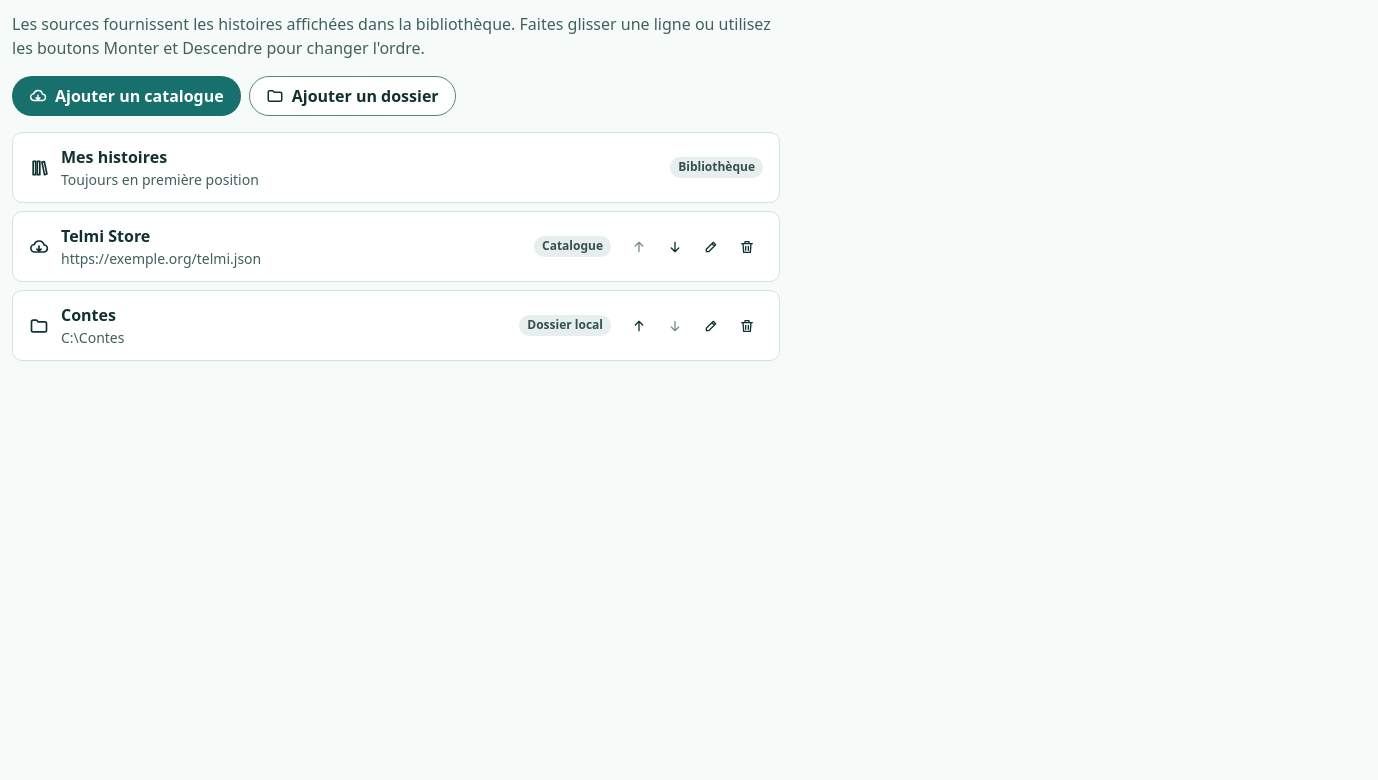
it: ajoute un dossier choisi dans le sélecteur natif
Expected: the text "Telmi Store" is shown, x1=61 y1=225 x2=150 y2=247
Click the button "Ajouter un dossier".
click(352, 96)  # box x1=249 y1=76 x2=456 y2=116
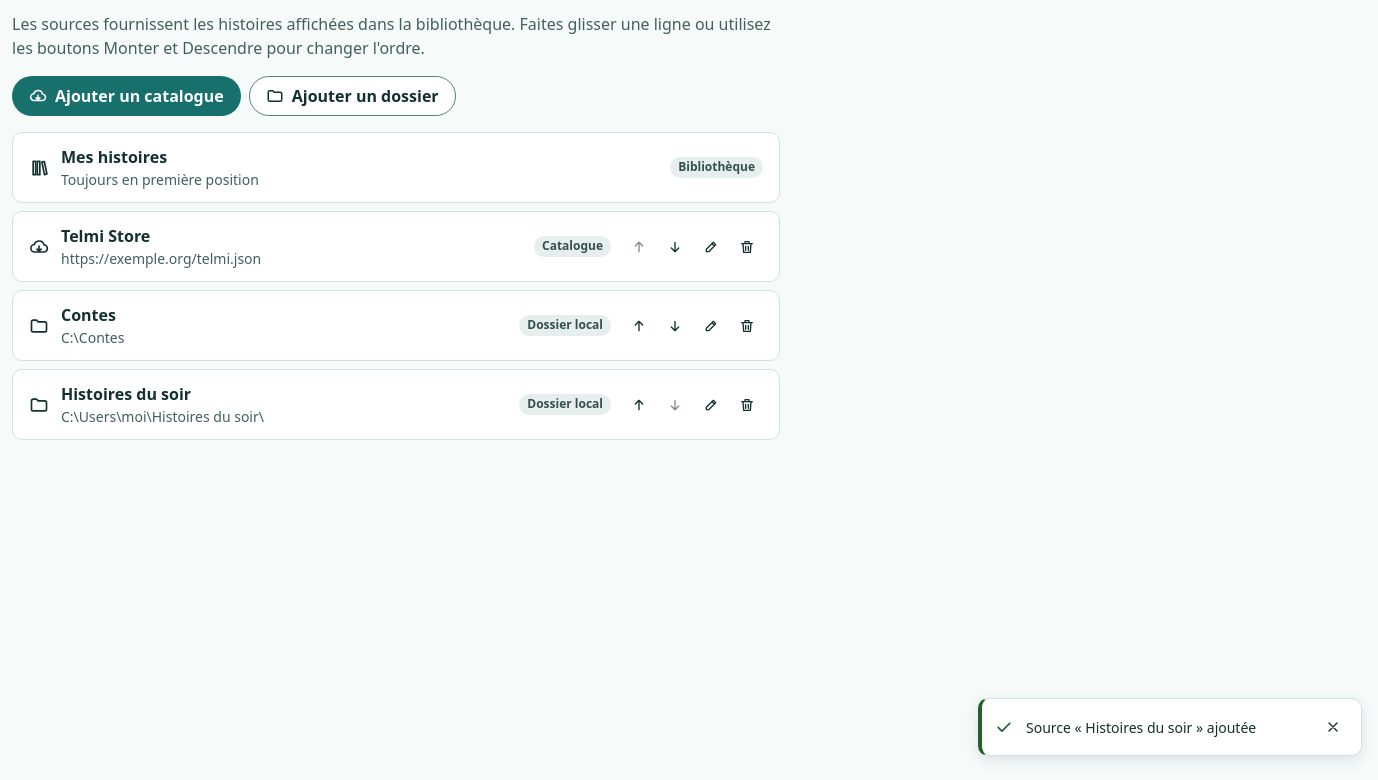
Result: the text "Histoires du soir" is shown at x1=61 y1=383 x2=191 y2=405
